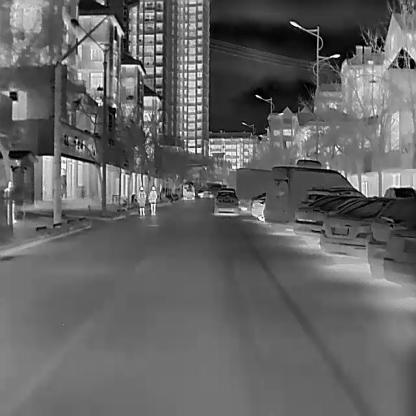bus: (182, 182, 194, 199)
car: (266, 162, 354, 236), (366, 193, 416, 284), (316, 194, 385, 258), (292, 194, 361, 238), (306, 184, 362, 204), (212, 184, 238, 217), (250, 191, 270, 220), (135, 185, 146, 216), (147, 184, 157, 216), (198, 188, 212, 198)
truck: (226, 168, 274, 212)
